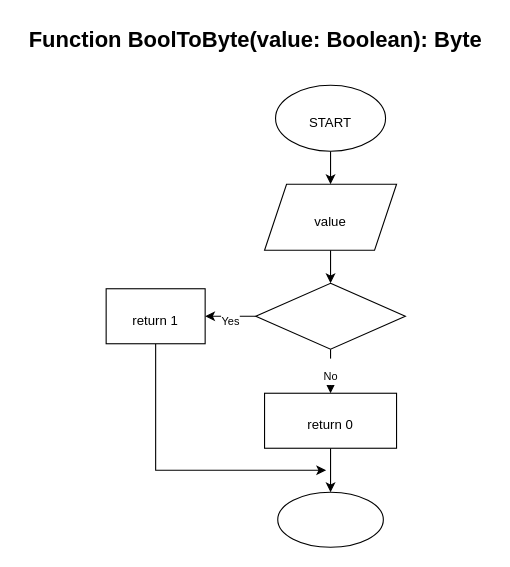
Some shapes in this 510 by 567 pixel diagram are drawn without their labels. Here are the shapes that lost their labels. From the top down, the centre of each, then its label:
the point at 330,315: value = True
the point at 330,519: END
